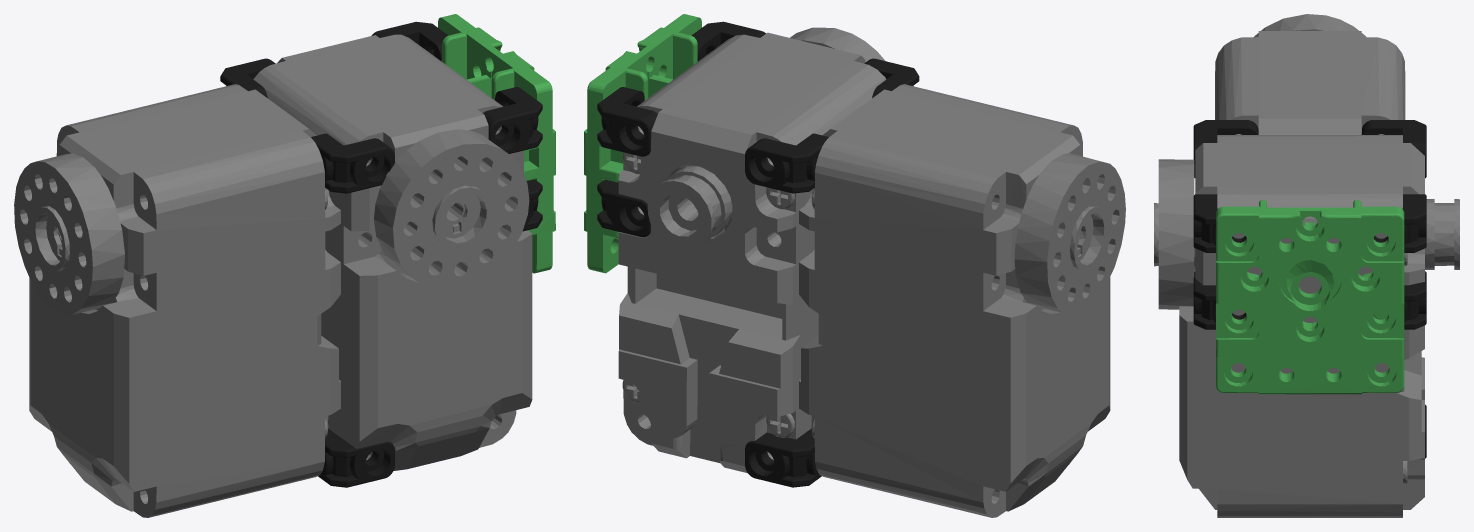
Rendered from bone11.DAE.
3 views of the same model, side by side, from view 1: azimuth 30°, elevation 25°; view 2: azimuth 150°, elevation 25°; view 3: azimuth 270°, elevation 25° (orthographic). The views are drawn at different scales.
Parts seen in each view (by area): view 1: through_all_screw_holes (×2), screw_holes (×2), Imported1 (×7); view 2: through_all_screw_holes (×2), Imported1 (×7), screw_holes (×2), O3.0__3__Diameter_Hole1; view 3: through_all_screw_holes (×2), Imported1 (×7), screw_holes (×2), O3.0__3__Diameter_Hole1.
Boxes of the visible parts, <box> form: through_all_screw_holes (×2): <box>29,34,532,517</box>; screw_holes (×2): <box>14,129,529,314</box>; Imported1 (×7): <box>220,14,555,487</box>; through_all_screw_holes (×2): <box>618,32,1110,517</box>; Imported1 (×7): <box>584,14,919,487</box>; screw_holes (×2): <box>790,27,1125,315</box>; O3.0__3__Diameter_Hole1: <box>647,166,732,250</box>; through_all_screw_holes (×2): <box>1179,31,1424,517</box>; Imported1 (×7): <box>1193,120,1426,394</box>; screw_holes (×2): <box>1154,14,1366,309</box>; O3.0__3__Diameter_Hole1: <box>1425,199,1459,269</box>.
Bounding box in the file's own units: 63.65 × 38.6 × 46.05.
